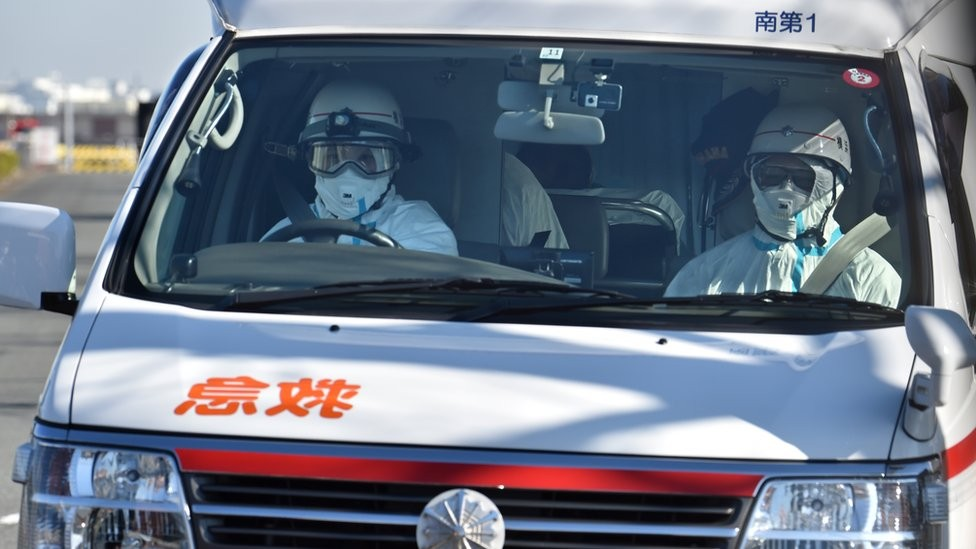Goggles: (305, 131, 401, 184), (748, 160, 831, 206)
with_mask: (312, 146, 390, 223), (755, 168, 814, 236)
